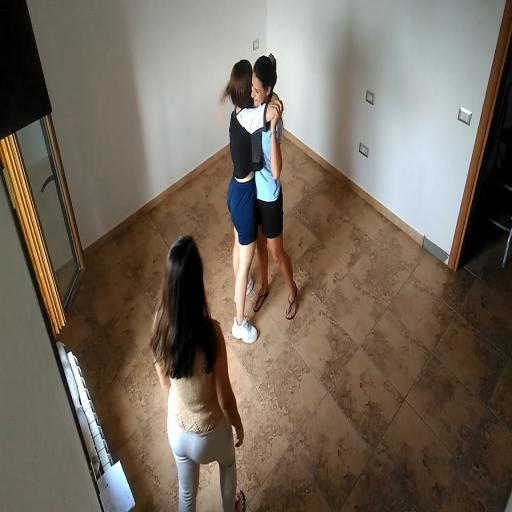nao-violencia: (212, 50, 310, 346)
